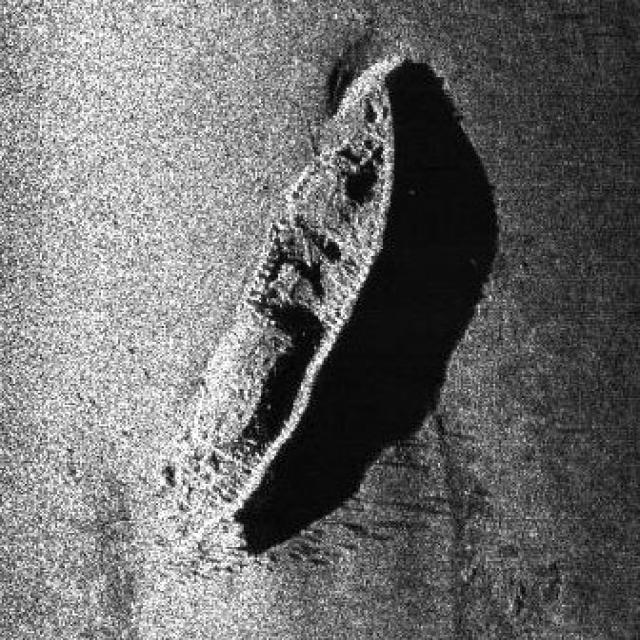ship: (186, 51, 404, 542)
